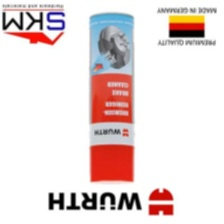aerosol_cans: (85, 10, 139, 186)
